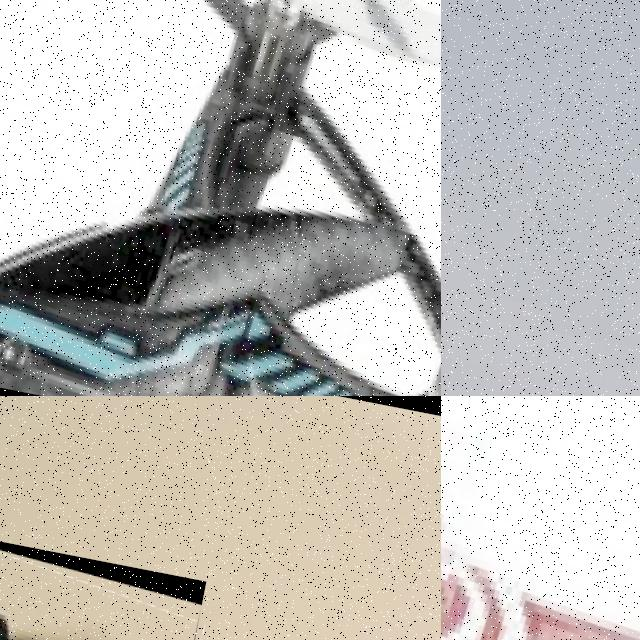drone: (0, 0, 441, 396), (441, 396, 640, 640), (0, 519, 206, 640)
